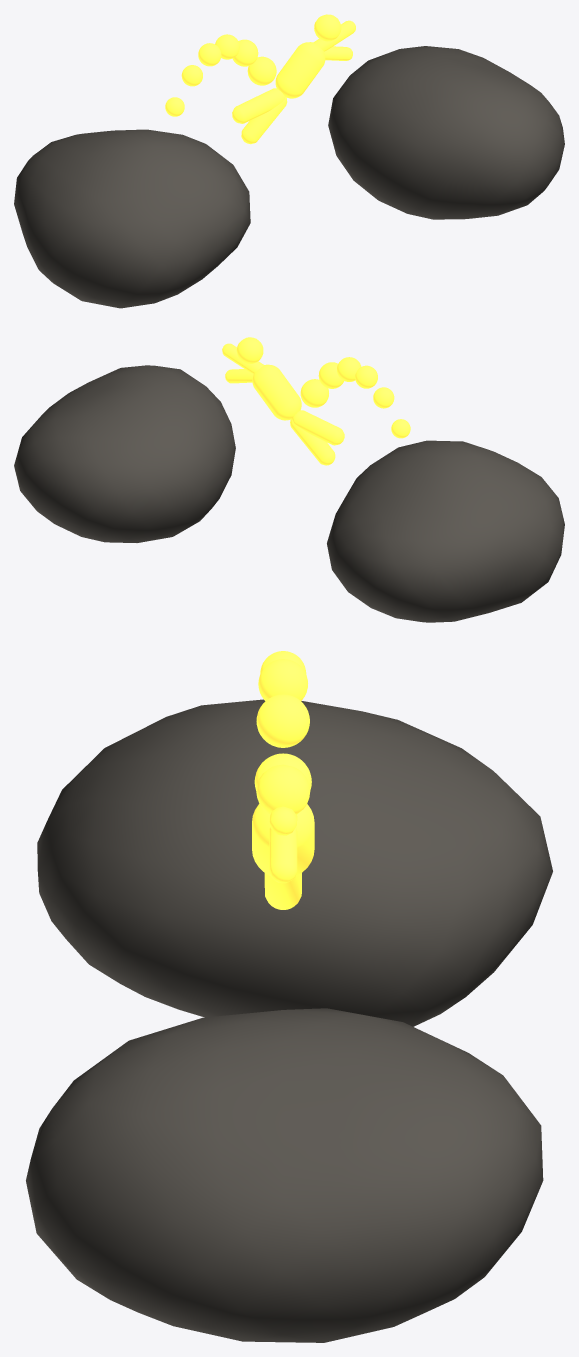
The model's file is lol.glb.
3 renders of one model, top to bottom at view 1: azimuth 30°, elevation 25°; view 2: azimuth 150°, elevation 25°; view 3: azimuth 270°, elevation 25°, orthographic. The views are drawn at different scales.
Visible parts, largest first — view 1: rockL, rockR, lol_fig, lol_orb_6, lol_orb_5, lol_orb_4, lol_orb_3, lol_orb_2; view 2: rockL, rockR, lol_fig, lol_orb_6, lol_orb_5, lol_orb_4, lol_orb_3, lol_orb_2; view 3: rockR, rockL, lol_fig, lol_orb_5, lol_orb_4.
Part boxes in pixels (x1,y1,x2,y2): rockL: [14, 129, 250, 308]; rockR: [328, 46, 564, 219]; lol_fig: [232, 14, 355, 144]; lol_orb_6: [247, 56, 276, 85]; lol_orb_5: [232, 39, 258, 66]; lol_orb_4: [215, 34, 239, 59]; lol_orb_3: [198, 43, 221, 66]; lol_orb_2: [181, 65, 202, 86]; rockL: [327, 440, 564, 622]; rockR: [14, 365, 235, 542]; lol_fig: [222, 337, 344, 465]; lol_orb_6: [300, 379, 328, 407]; lol_orb_5: [318, 362, 343, 388]; lol_orb_4: [337, 357, 361, 381]; lol_orb_3: [355, 365, 377, 388]; lol_orb_2: [373, 387, 394, 408]; rockR: [26, 1008, 543, 1342]; rockL: [37, 699, 552, 1026]; lol_fig: [252, 764, 314, 909]; lol_orb_5: [256, 694, 309, 747]; lol_orb_4: [258, 659, 307, 700].
Bounding box in the file's own units: 3.69 × 1.54 × 1.66.
